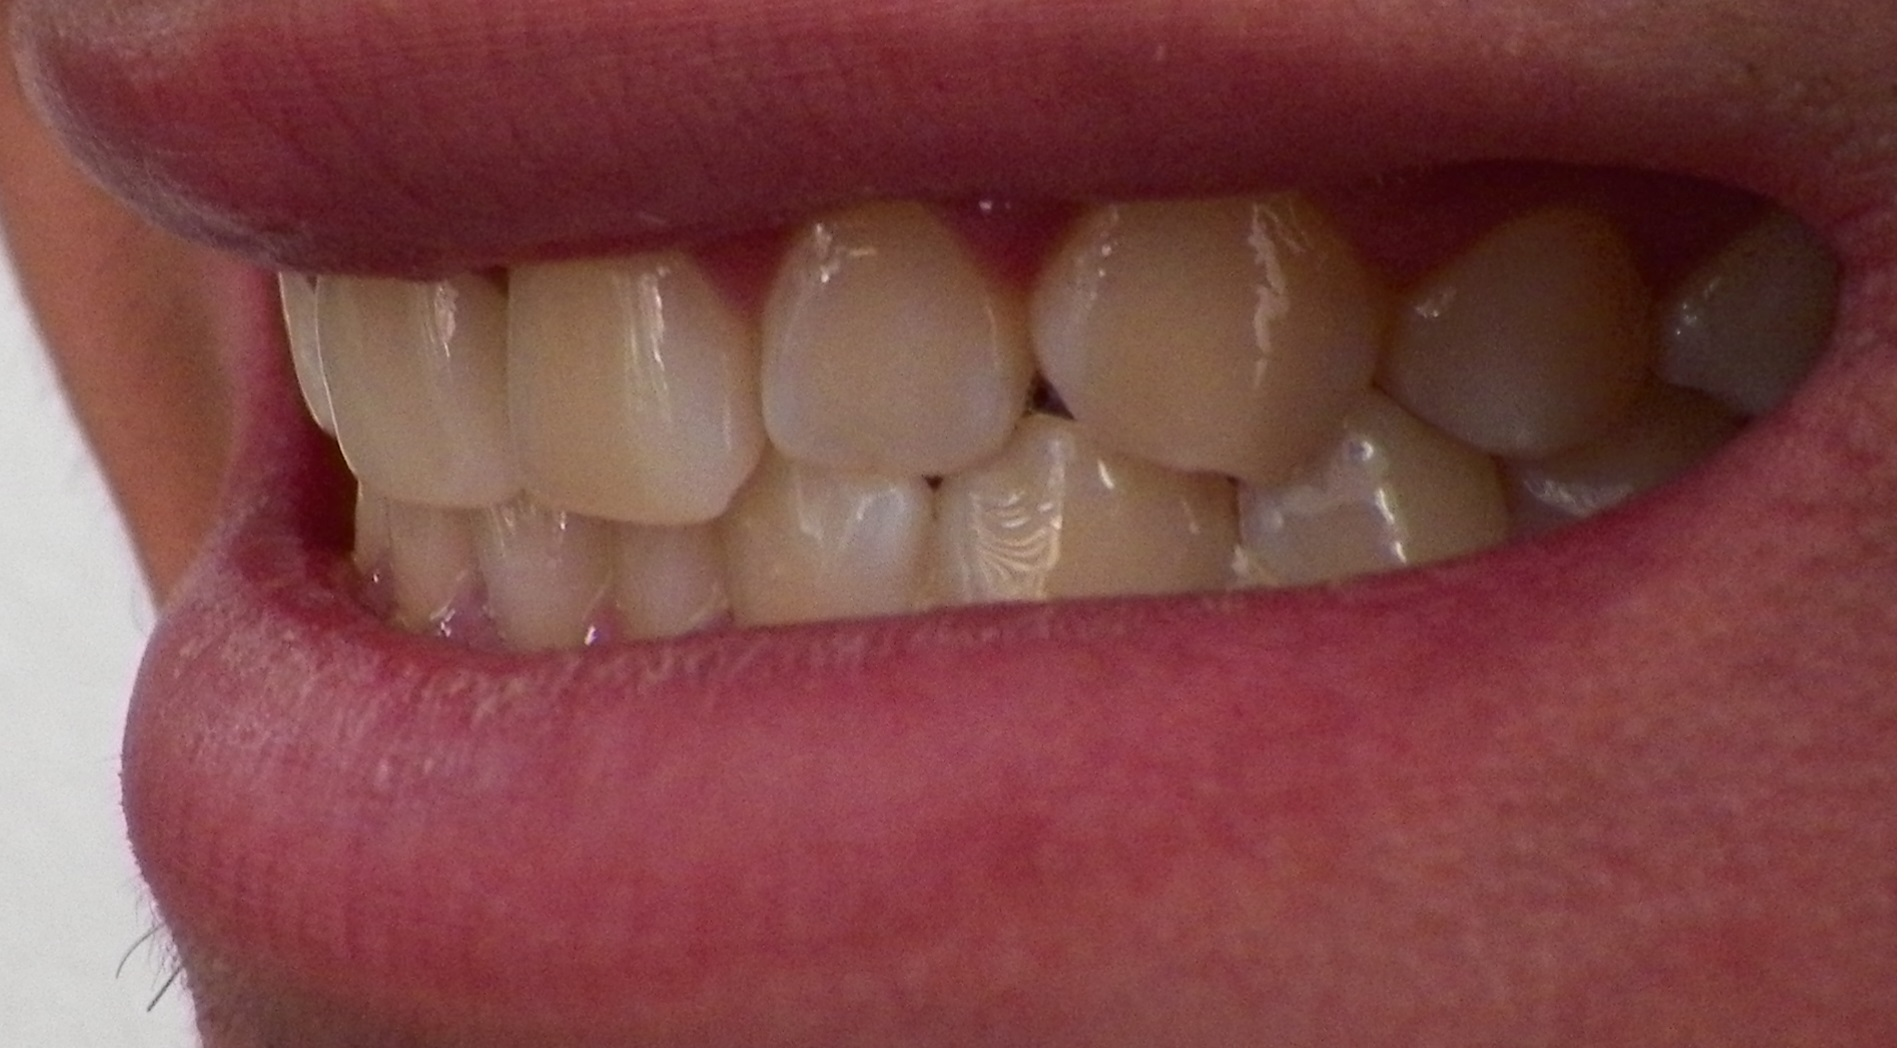boca: (273, 188, 1830, 648)
